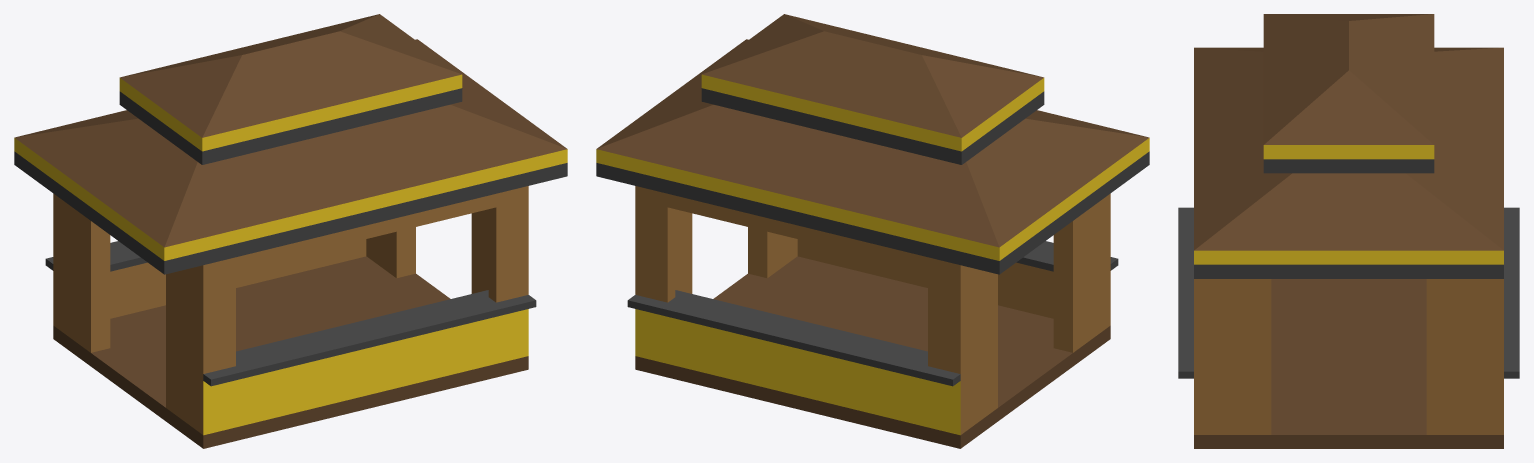
The model's file is bar-tropic.fbx.
The picture shows the model from 3 angles, left to right: view 1: azimuth 30°, elevation 25°; view 2: azimuth 150°, elevation 25°; view 3: azimuth 270°, elevation 25°; orthographic projection. The views are drawn at different scales.
Parts seen in each view (by area): view 1: bar-tropic; view 2: bar-tropic; view 3: bar-tropic.
Boxes of the visible parts, x1,y1,x2,y2 form: bar-tropic: (14, 14, 567, 448); bar-tropic: (596, 14, 1149, 448); bar-tropic: (1178, 14, 1519, 448).
Bounding box in the file's own units: 6.2 × 4.57 × 4.4.
